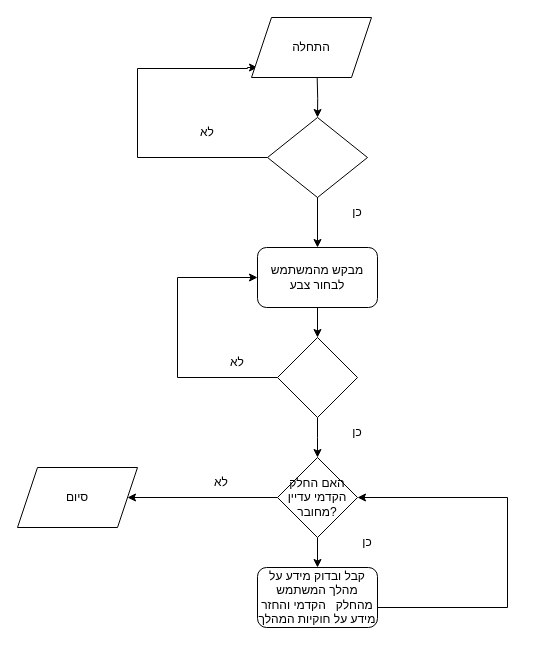
Some shapes in this 533 by 645 pixel diagram are drawn without their labels. The centre of each missing label's shape, as x and y in pixels:
האם החלק הקדמי מחובר?: point 317,157
האם הצבע שהוזן תקין?: point 317,377
